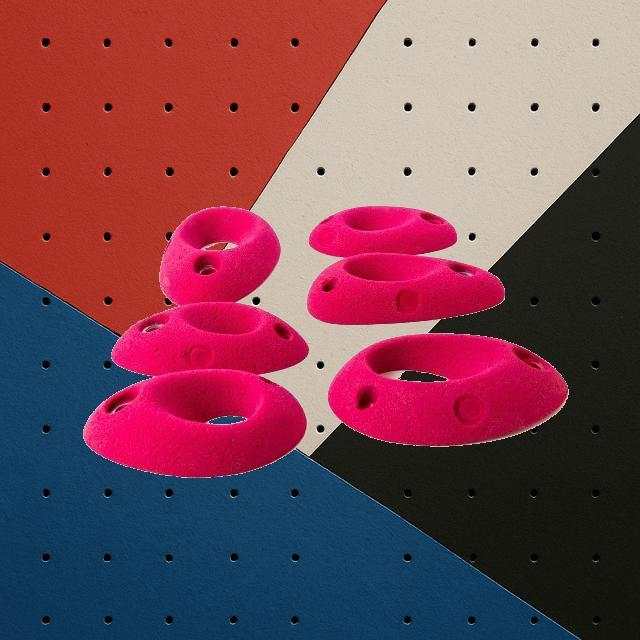Pocket: (327, 330, 568, 448), (81, 367, 306, 478), (109, 299, 311, 375), (306, 252, 504, 326), (157, 204, 279, 304), (308, 205, 456, 257)
